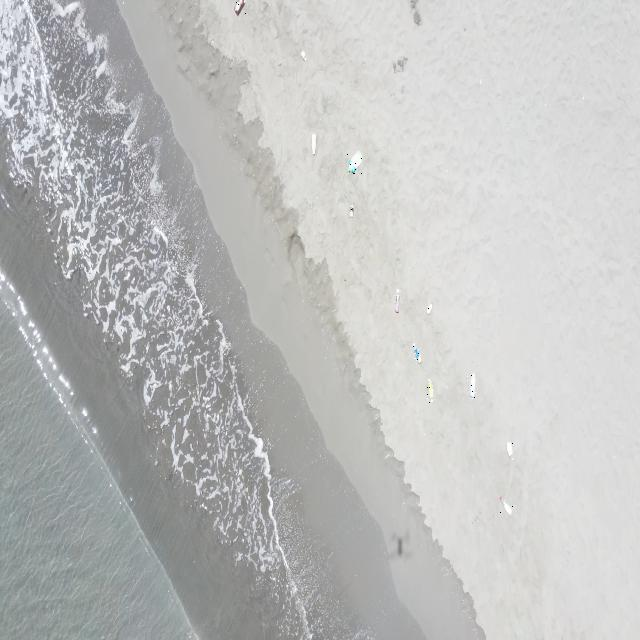Garbage: (347, 151, 362, 172), (500, 495, 511, 513), (468, 372, 475, 396), (412, 344, 420, 363), (393, 288, 399, 312), (233, 0, 243, 13), (311, 132, 316, 155), (427, 379, 432, 402), (507, 442, 512, 456), (300, 49, 306, 60), (426, 303, 431, 312), (348, 206, 352, 216)
